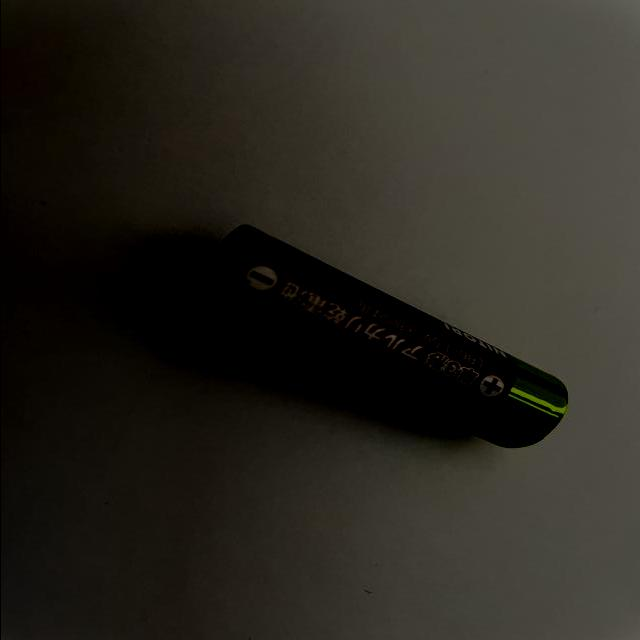AA: (176, 222, 570, 448)
